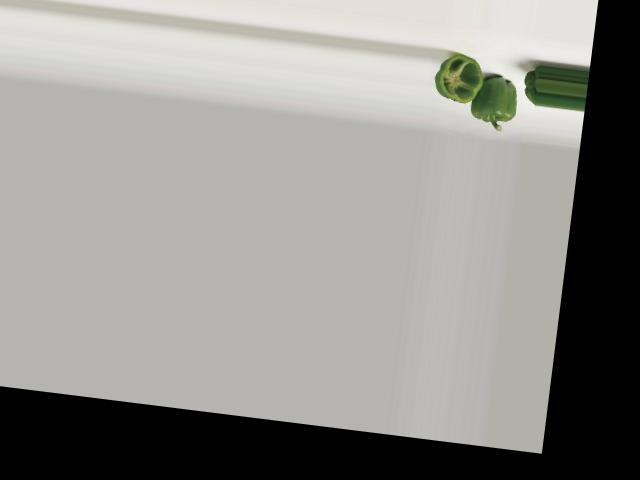bell_pepper: (429, 48, 489, 110)
